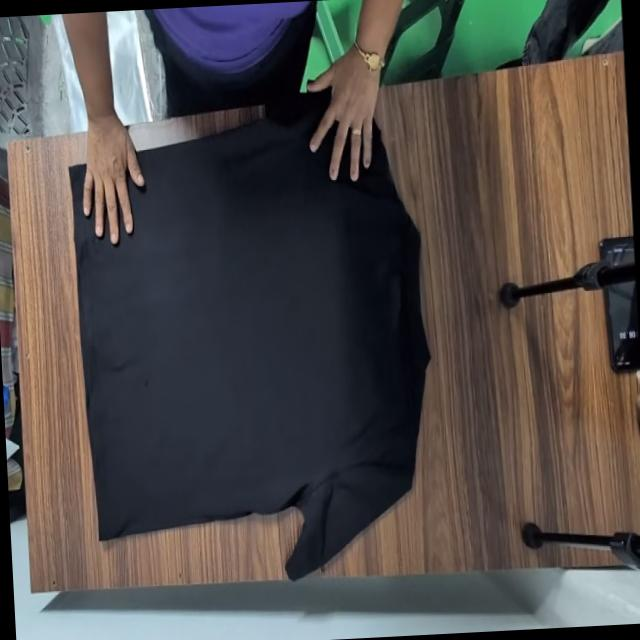new-garment: (74, 107, 428, 576)
